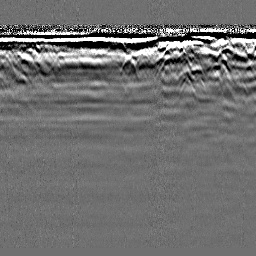cavity: (119, 55, 140, 82)
